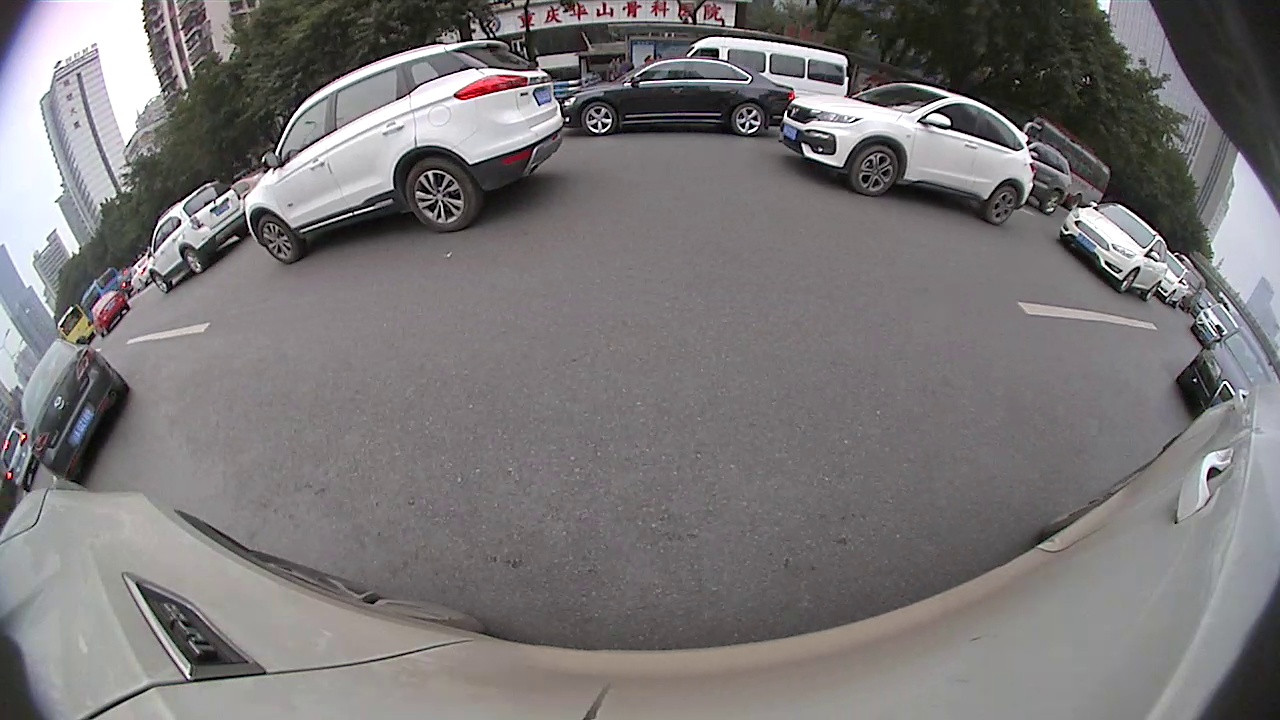car: (245, 37, 563, 265), (777, 82, 1033, 226), (560, 56, 797, 137), (21, 338, 129, 485), (683, 35, 847, 110), (145, 179, 247, 295), (1059, 203, 1166, 303), (1175, 331, 1268, 413), (1021, 138, 1071, 214), (90, 284, 129, 342), (1193, 303, 1239, 348)
front: (850, 147, 899, 196), (257, 215, 304, 264), (580, 101, 618, 137), (1117, 268, 1139, 294), (150, 270, 171, 295), (1163, 290, 1175, 304)
rear: (406, 156, 475, 231), (988, 185, 1018, 224), (731, 103, 764, 136), (180, 249, 203, 274), (1039, 192, 1061, 213), (1143, 282, 1159, 302), (1065, 192, 1080, 210), (1173, 297, 1184, 310)
